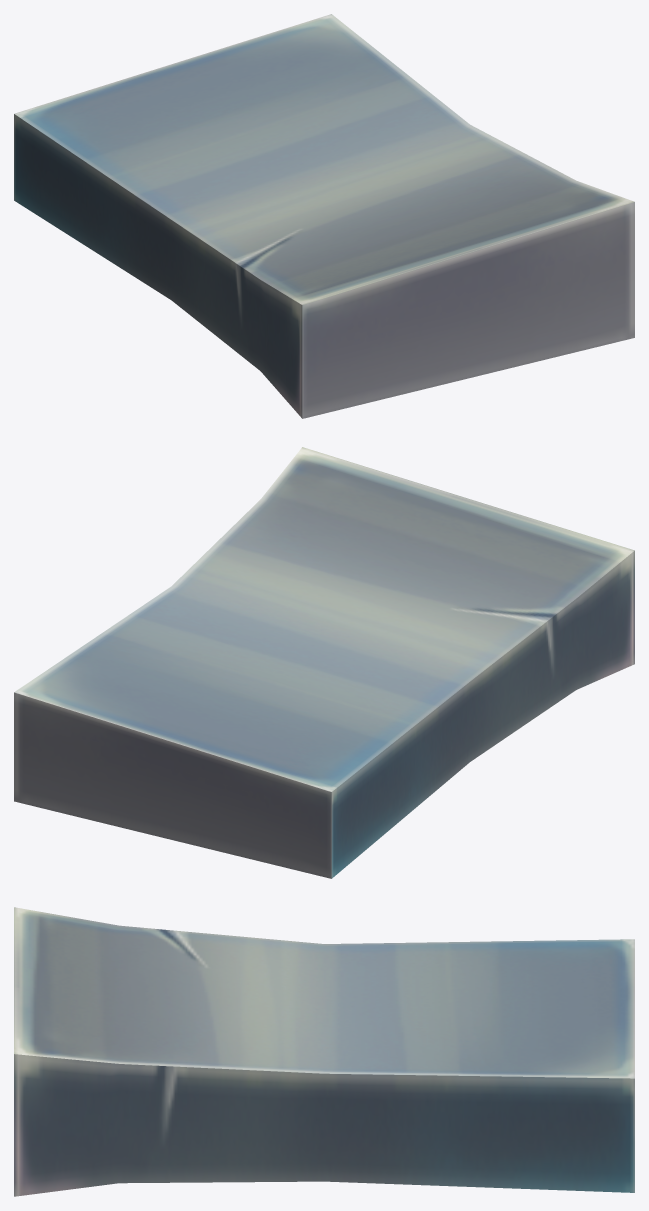
Rendered from scenes_common_iron01a.FBX.
The picture shows the model from 3 angles, top to bottom: view 1: azimuth 30°, elevation 25°; view 2: azimuth 150°, elevation 25°; view 3: azimuth 270°, elevation 25°; orthographic projection. The views are drawn at different scales.
Parts seen in each view (by area): view 1: scenes_common_iron01a; view 2: scenes_common_iron01a; view 3: scenes_common_iron01a.
Part boxes in pixels (x1=…): scenes_common_iron01a: x1=14, y1=14, x2=634, y2=418; scenes_common_iron01a: x1=14, y1=447, x2=634, y2=878; scenes_common_iron01a: x1=14, y1=907, x2=634, y2=1196.
Size of the model in its own units: 14.51 by 5.67 by 22.36.
